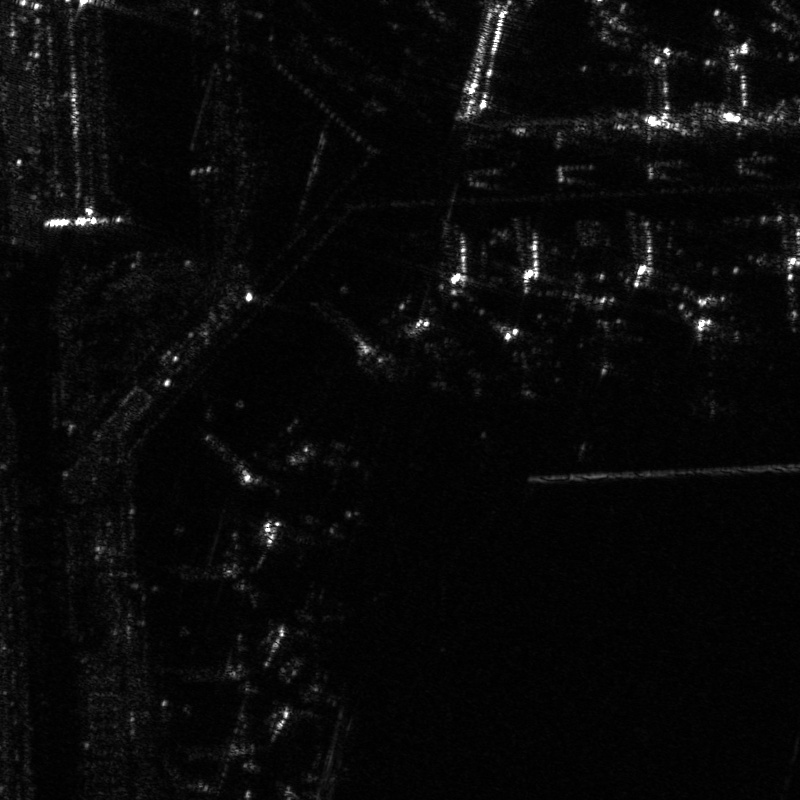A220: (564, 313, 650, 394)
A320/321: (254, 571, 370, 668)
Boeing737: (483, 337, 565, 408)
Boeing787: (659, 315, 776, 419)
